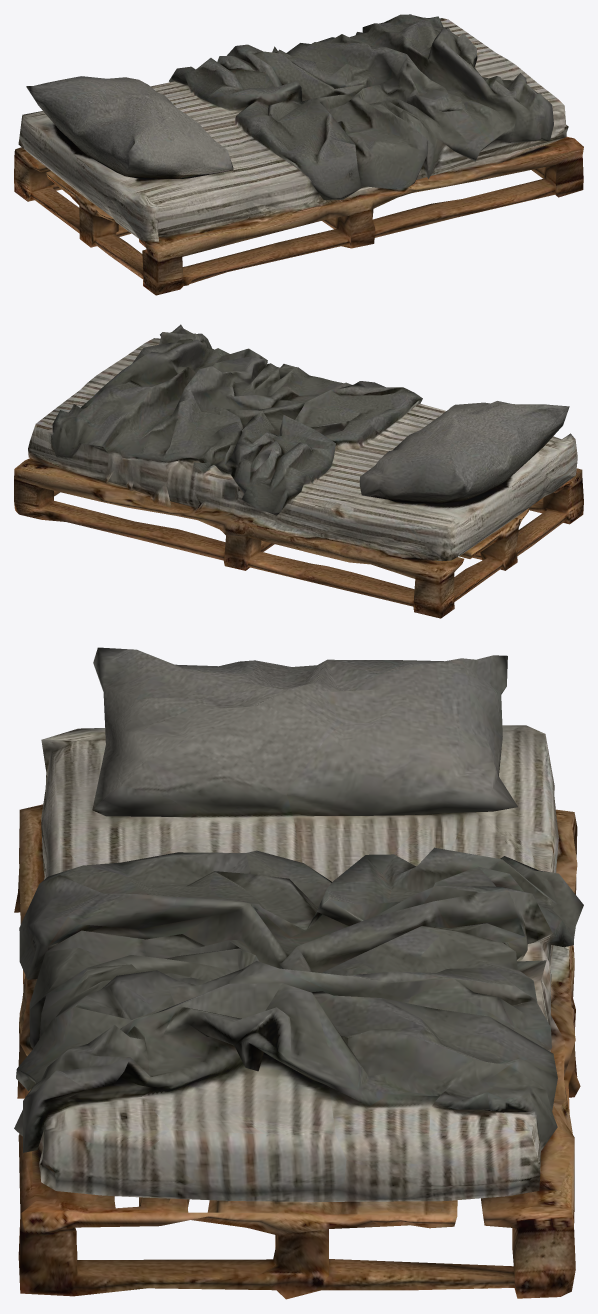
File: bb_bed.2b76e7f32a.glb
3 views of the same model, one above another, from view 1: azimuth 30°, elevation 25°; view 2: azimuth 150°, elevation 25°; view 3: azimuth 270°, elevation 25° (orthographic). The views are drawn at different scales.
Visible parts, largest first — view 1: bb_bed; view 2: bb_bed; view 3: bb_bed.
Boxes of the visible parts, bbox=[...] form: bb_bed: bbox=[14, 14, 583, 295]; bb_bed: bbox=[14, 324, 583, 618]; bb_bed: bbox=[14, 647, 583, 1299].
Size of the model in its own units: 2 by 0.5943 by 1.17.
Materials: 1 (1 with a texture image).
